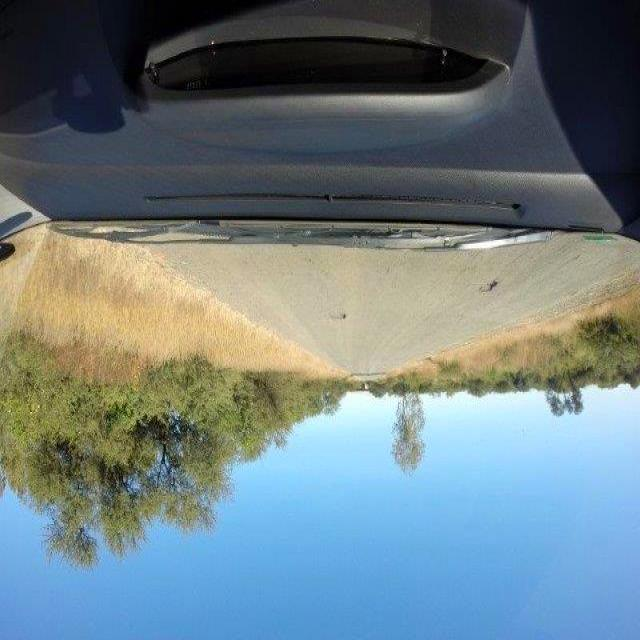lubang: (478, 278, 501, 298), (324, 308, 350, 324)
